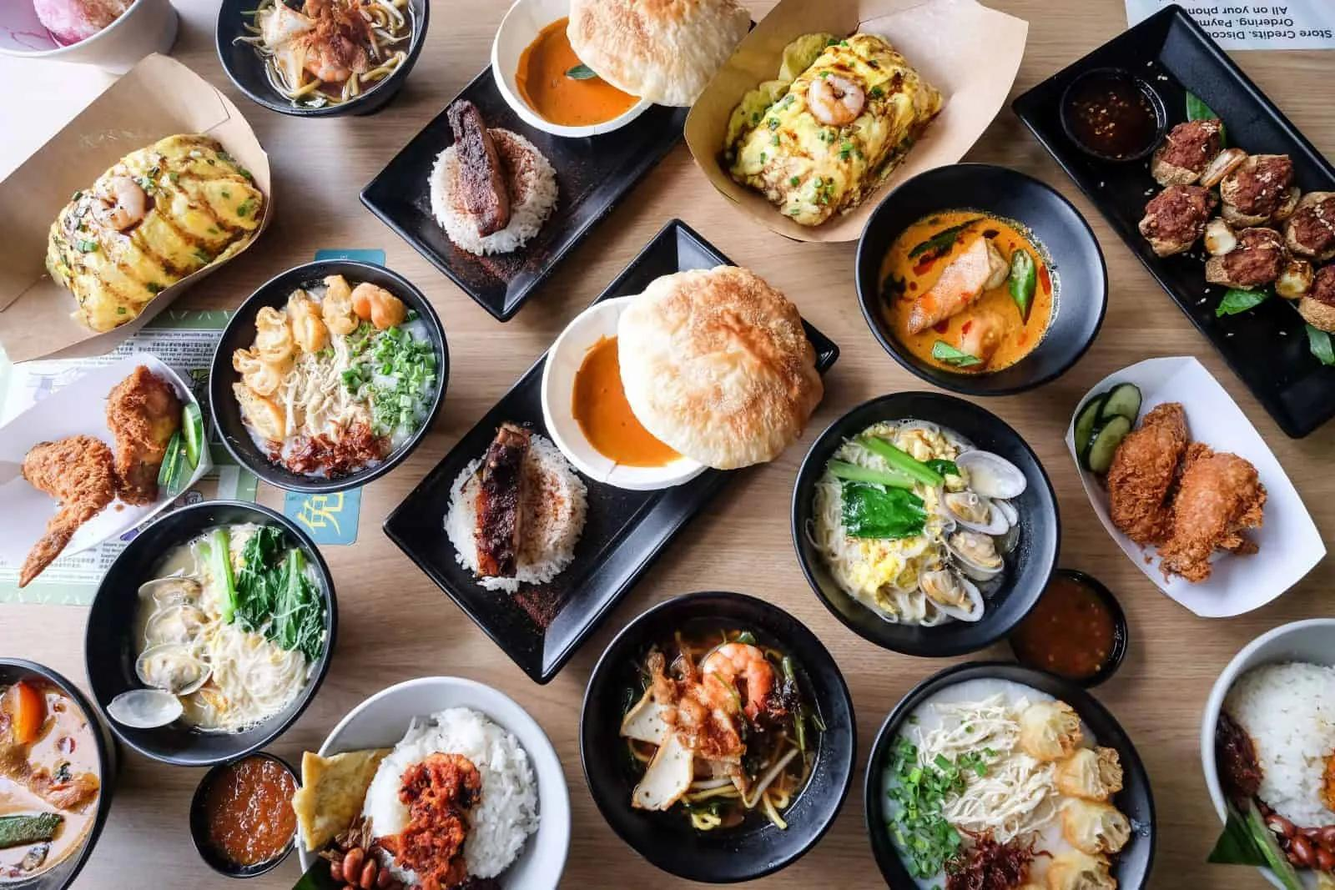Braised Crucian Carp: (346, 195, 883, 736), (982, 0, 1334, 480), (361, 23, 678, 325), (1, 50, 273, 358), (581, 597, 834, 875), (796, 390, 1058, 655), (1064, 356, 1323, 613), (727, 0, 1017, 229), (861, 660, 1159, 882), (82, 504, 337, 754), (854, 163, 1105, 398), (207, 259, 449, 494), (302, 678, 567, 889), (2, 349, 210, 562)
